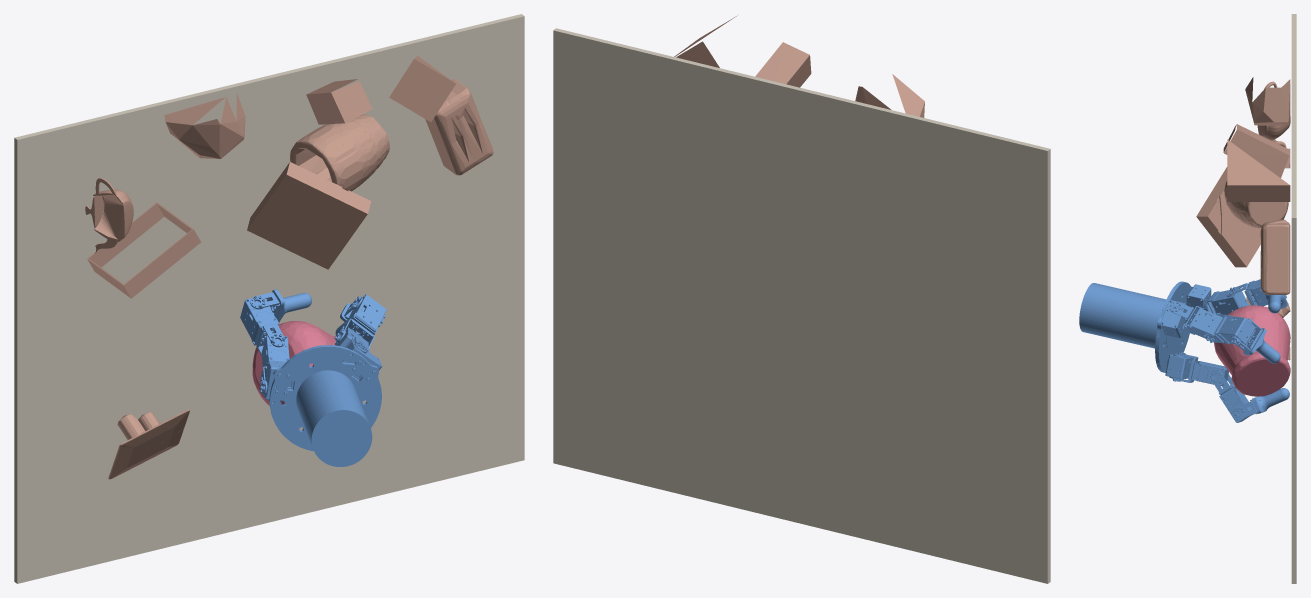
The picture shows the model from 3 angles, left to right: view 1: azimuth 30°, elevation 25°; view 2: azimuth 150°, elevation 25°; view 3: azimuth 270°, elevation 25°; orthographic projection. The views are drawn at different scales.
Parts seen in each view (by area): view 1: environment, hand, obstacle_000, obstacle_001, obstacle_002, obstacle_003, obstacle_007, obstacle_008, obstacle_005, obstacle_004, obstacle_006, world; view 2: environment, obstacle_006, obstacle_007, obstacle_005; view 3: hand, world, environment, obstacle_000, obstacle_005, obstacle_002, obstacle_007, obstacle_006, obstacle_001, obstacle_004.
Part boxes in pixels (box(x1,y1,x2,y2)): environment: box(14, 14, 524, 583); hand: box(240, 289, 386, 466); obstacle_000: box(247, 162, 371, 269); obstacle_001: box(290, 114, 389, 191); obstacle_002: box(425, 79, 493, 175); obstacle_003: box(87, 202, 200, 298); obstacle_007: box(164, 92, 245, 158); obstacle_008: box(108, 409, 189, 479); obstacle_005: box(389, 56, 455, 122); obstacle_004: box(85, 178, 133, 253); obstacle_006: box(306, 79, 372, 124); world: box(252, 321, 336, 405); environment: box(553, 28, 1050, 583); obstacle_006: box(755, 42, 811, 87); obstacle_007: box(855, 74, 924, 117); obstacle_005: box(674, 15, 737, 67); hand: box(1079, 279, 1289, 422); world: box(1214, 305, 1290, 396); environment: box(1291, 14, 1296, 583); obstacle_000: box(1196, 167, 1261, 267); obstacle_005: box(1227, 139, 1290, 201); obstacle_002: box(1260, 219, 1290, 294); obstacle_007: box(1245, 77, 1290, 125); obstacle_006: box(1223, 124, 1290, 177); obstacle_001: box(1224, 181, 1288, 228); obstacle_004: box(1257, 81, 1290, 147).
Size of the model in its own units: 0.7652 by 0.6724 by 0.3445.
